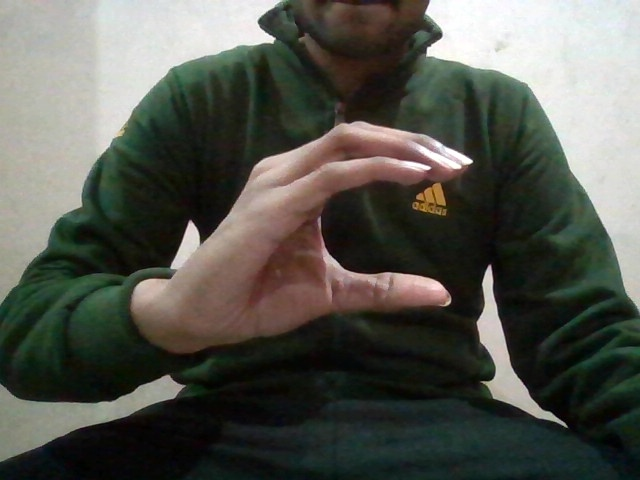C: (172, 119, 472, 356)
